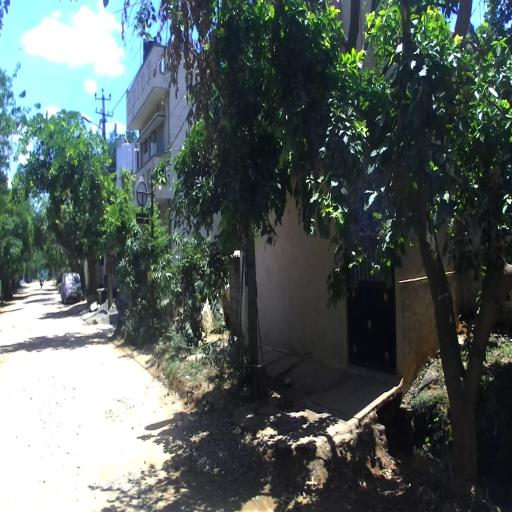street_light_0: (81, 113, 106, 139)
